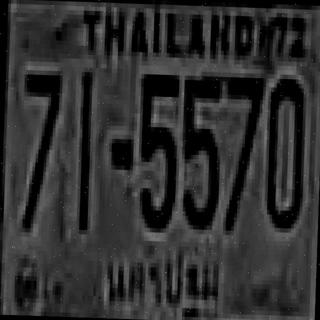N00: (264, 74, 304, 224)
N01: (74, 70, 92, 228), (76, 69, 92, 223)
N05: (135, 69, 178, 228), (180, 71, 220, 225)
N07: (19, 70, 60, 229), (221, 75, 262, 229), (20, 70, 60, 207), (223, 74, 262, 181), (21, 70, 60, 176)
P28: (100, 240, 228, 320)
